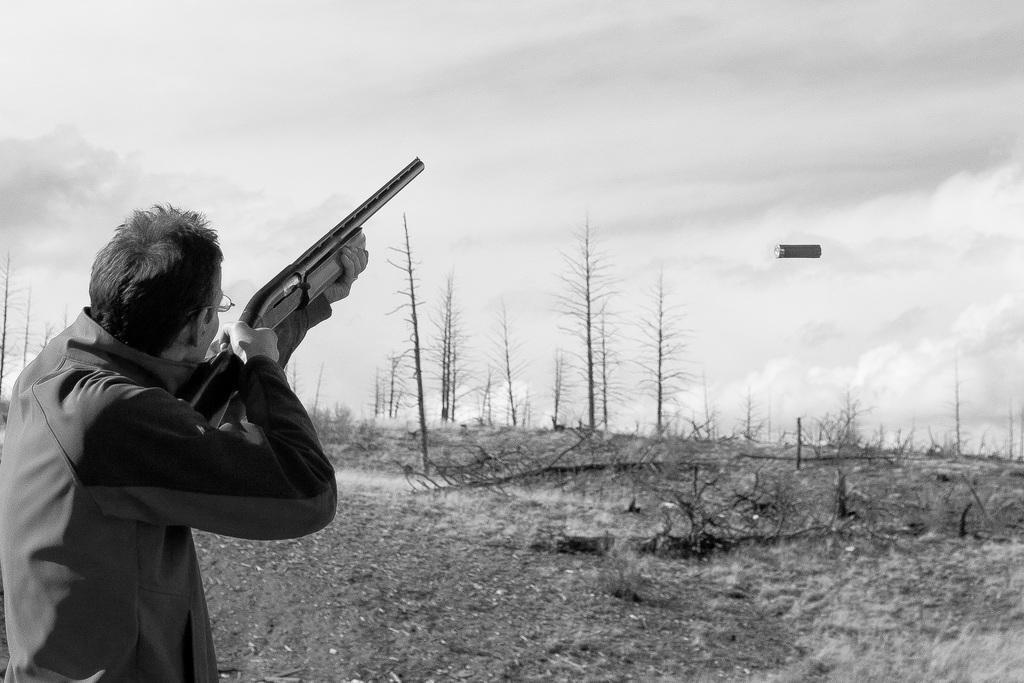Shotgun: (177, 157, 422, 438)
